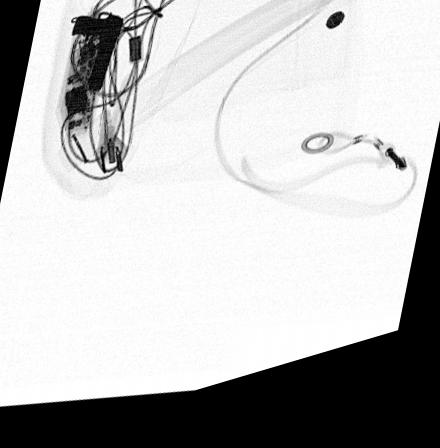Gun: (73, 18, 123, 96)
